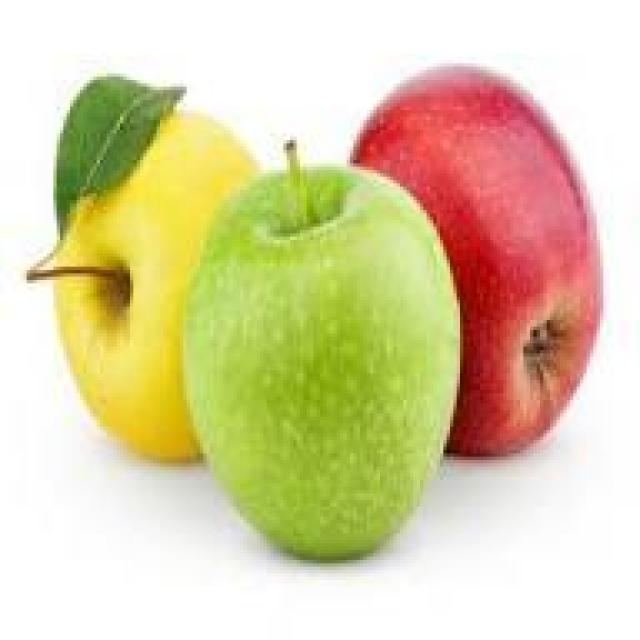apple: (353, 63, 610, 470), (193, 170, 457, 550), (60, 103, 273, 457)
